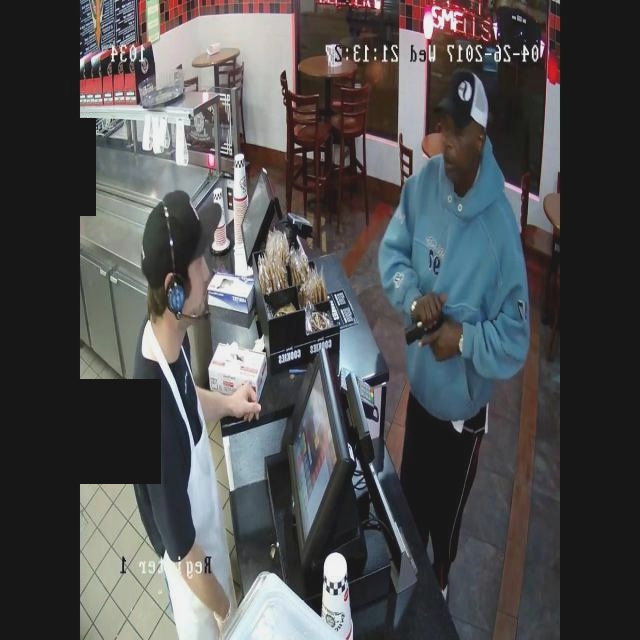gun: (399, 303, 457, 357)
